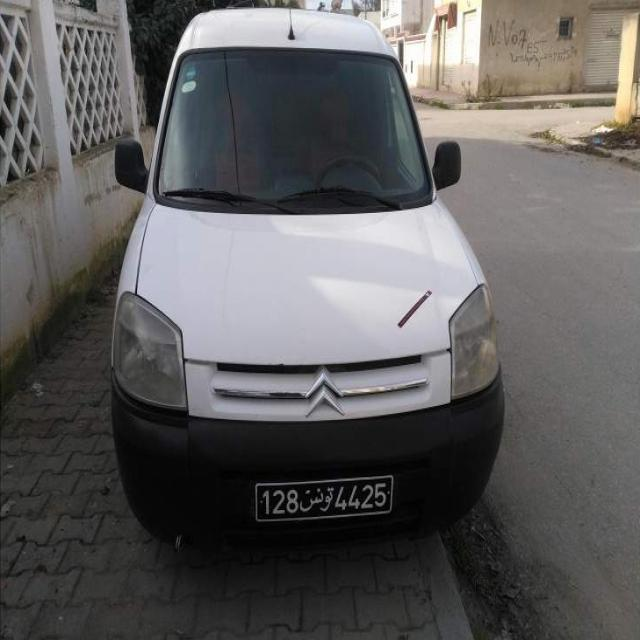licence plate: (256, 476, 395, 520)
